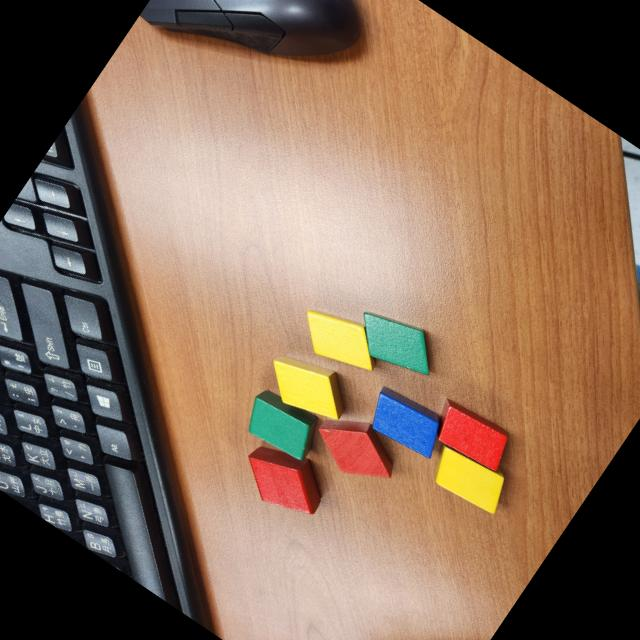blue: (358, 379, 455, 467)
green: (342, 295, 450, 392), (235, 381, 329, 468)
red: (230, 428, 338, 530), (304, 401, 409, 498), (424, 392, 518, 477)
yellow: (256, 339, 360, 435), (289, 294, 392, 386), (424, 437, 518, 522)
